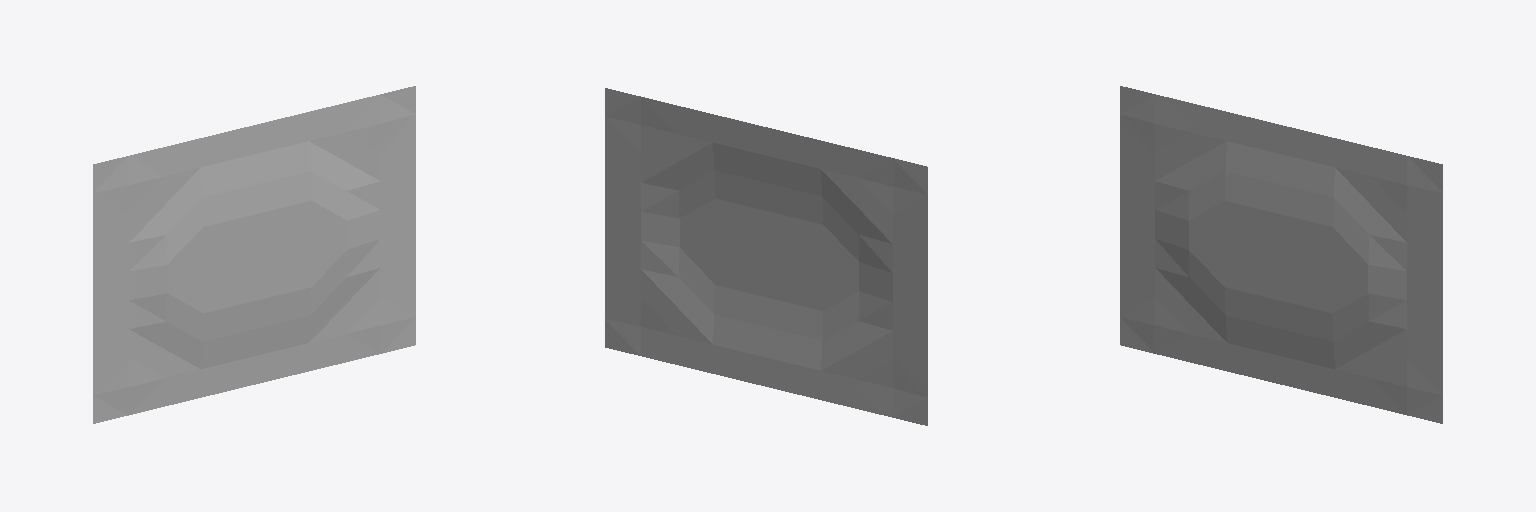
The model's file is tvscreen.obj.
3 views of the same model, side by side, from view 1: azimuth 30°, elevation 25°; view 2: azimuth 150°, elevation 25°; view 3: azimuth 330°, elevation 25° (orthographic).
Parts seen in each view (by area): view 1: Grid; view 2: Grid; view 3: Grid.
Boxes of the visible parts, <box> form: Grid: <box>93,86,415,423</box>; Grid: <box>605,88,927,425</box>; Grid: <box>1120,86,1442,423</box>.
Size of the model in its own units: 1.58 by 1.21 by 0.0253.